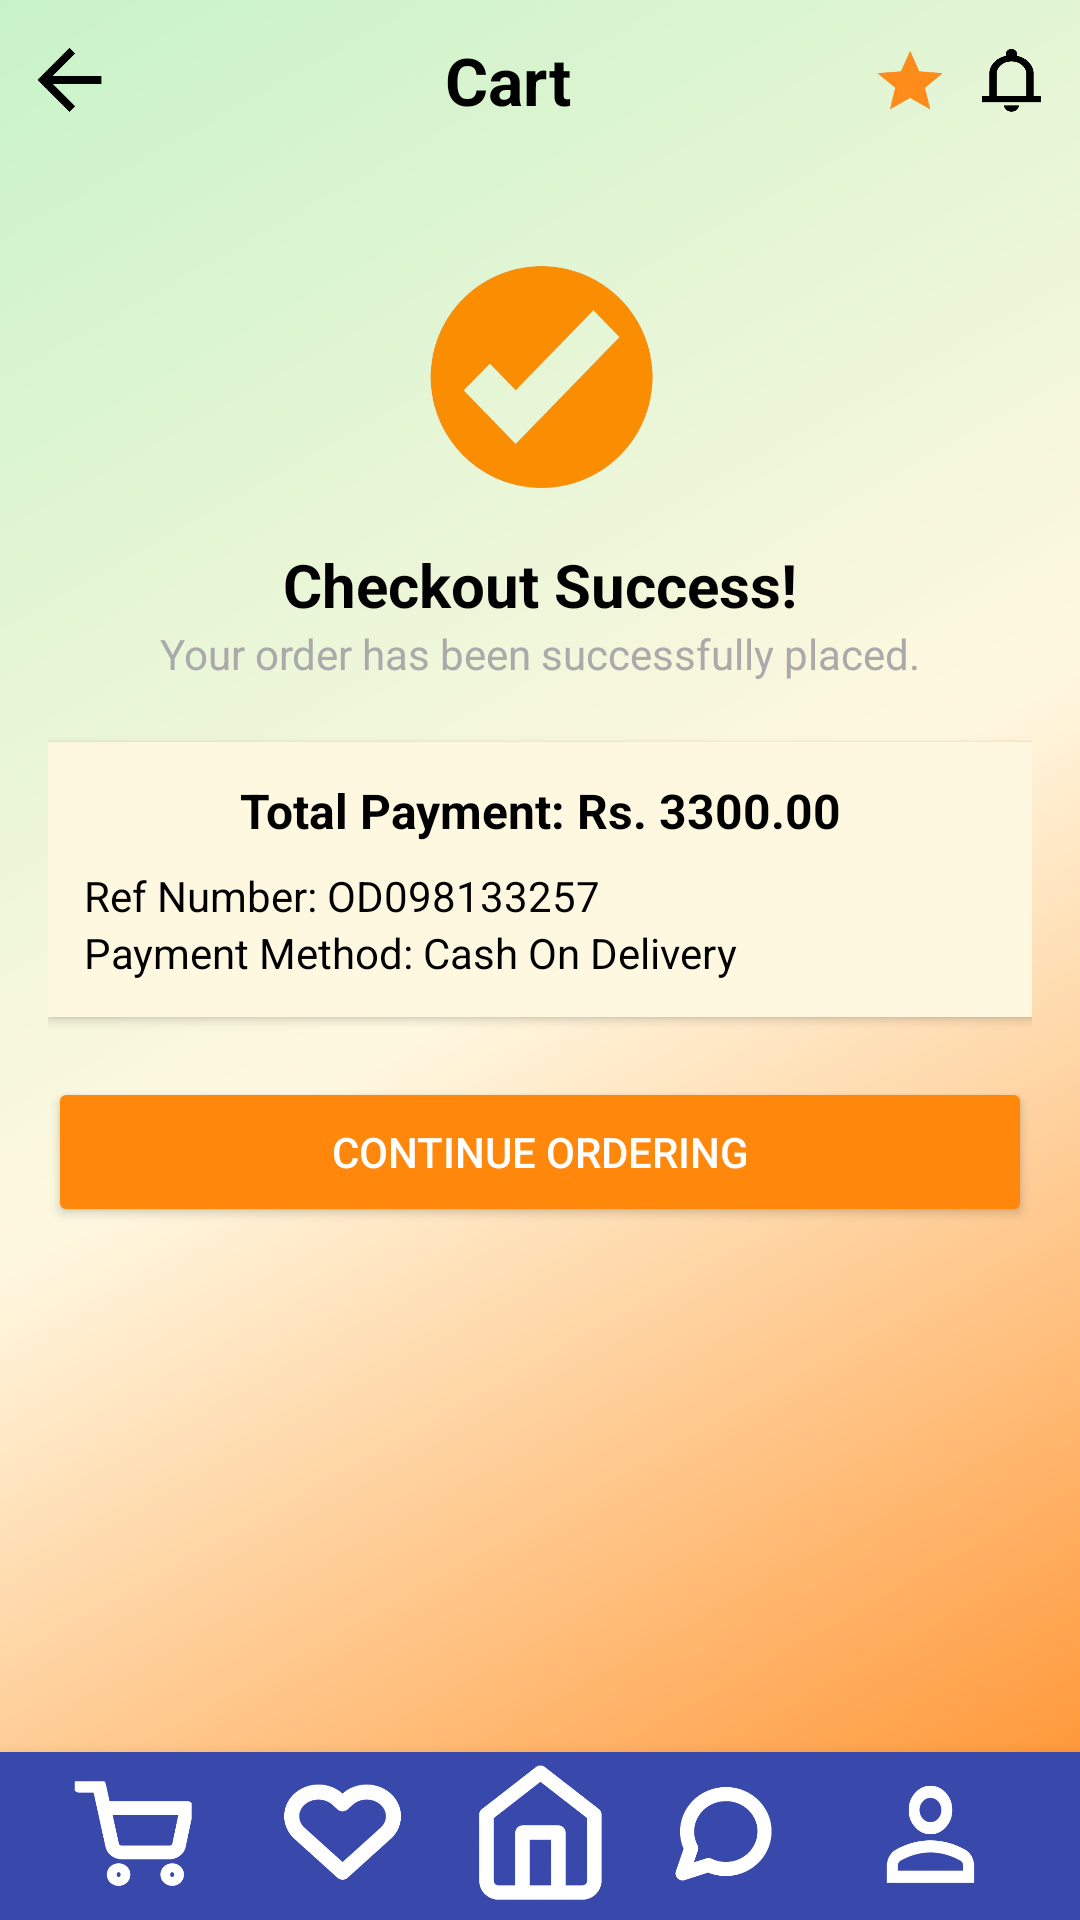

Icon click points for this 1080px x 1920px phone screenshot, format point (x, y):
back arrow: point (70, 80)
bell: point (1011, 80)
menu cart: point (133, 1833)
menu home: point (540, 1832)
menu profile: point (930, 1834)
menu wishlist: point (342, 1832)
star: point (909, 80)
tick: point (541, 377)
